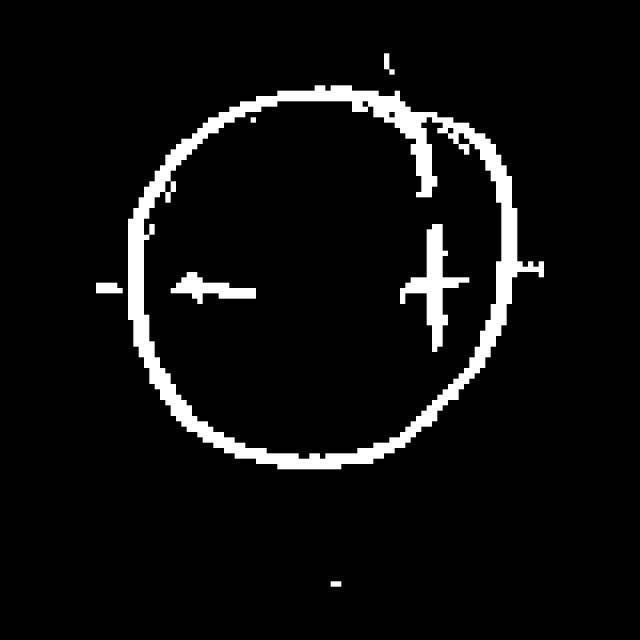voltage_source: (123, 75, 522, 500)
